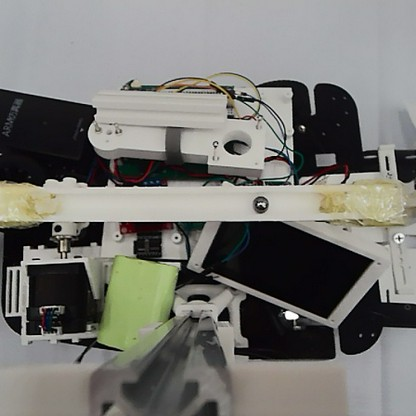ironball: (250, 193, 271, 214)
